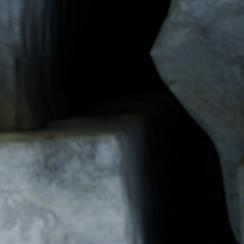brick: (0, 131, 140, 243), (239, 158, 243, 239)
crack: (2, 0, 241, 243)
